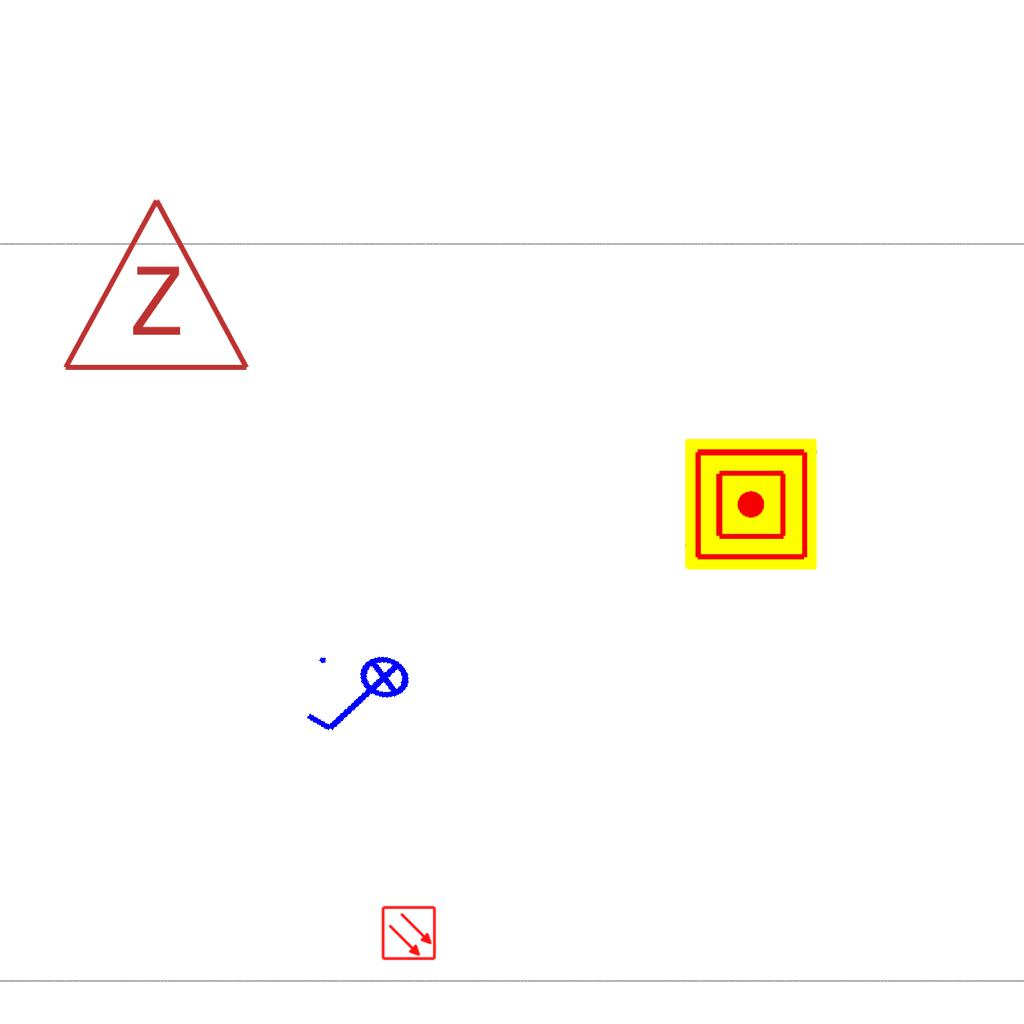Ausschalter_beleuchtet: (294, 637, 428, 759)
NAM-Nichtautomatischer_Melder: (685, 438, 817, 570)
RMO_Rauchmelder_optischer: (381, 905, 437, 961)
Zimmersignalleuchte: (56, 185, 252, 385)
